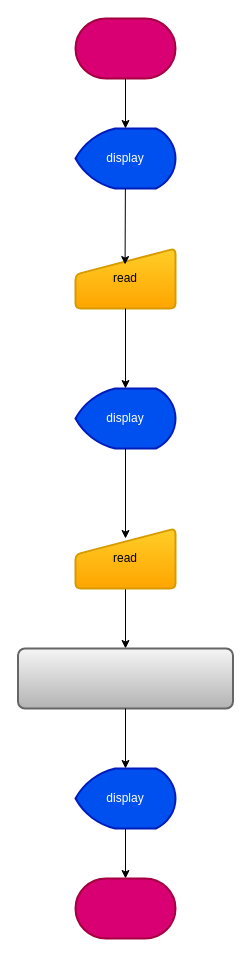
Image size: 251x956. Some labels were removed from this diagram. Each missing label, with the box of its shape:
calculator: (16, 647, 234, 709)
end: (74, 877, 176, 939)
Start: (74, 17, 176, 79)
